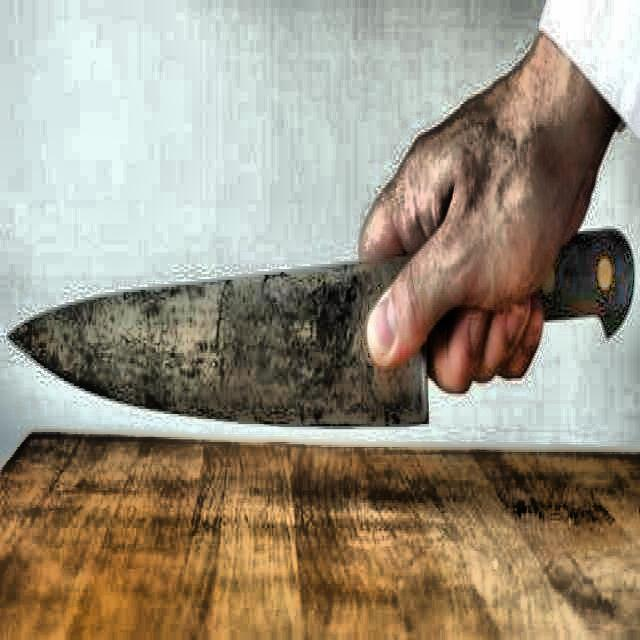knife: (8, 232, 635, 430)
